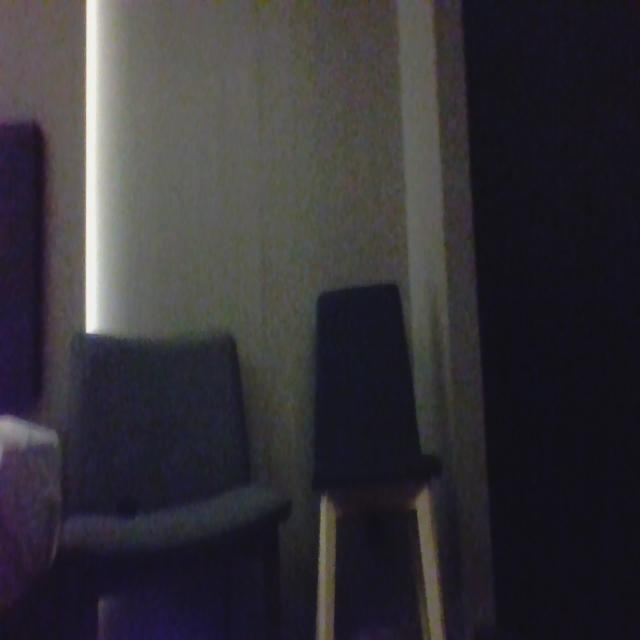empty: (56, 329, 258, 536), (312, 290, 420, 480)
